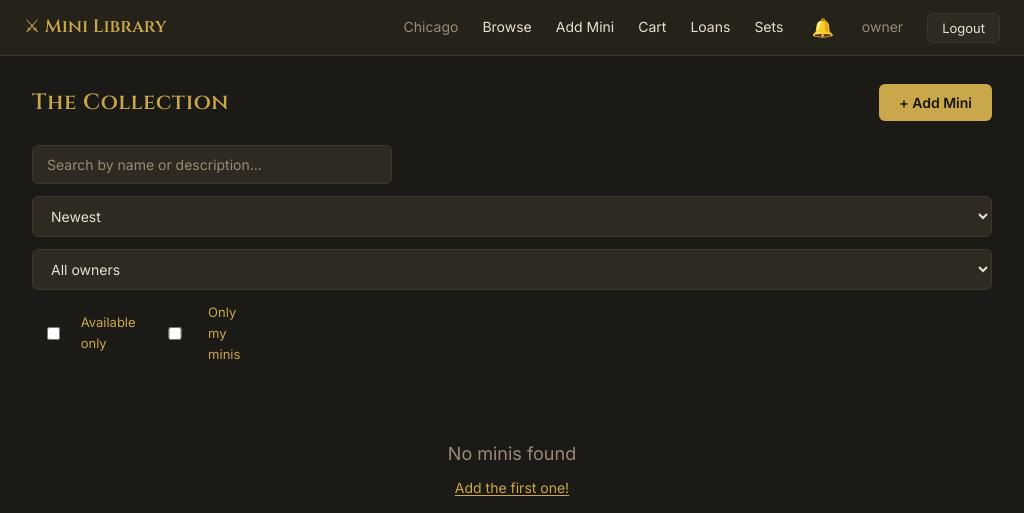
App nav — username link › links to the sets page from the nav
The width and height of the screenshot is (1024, 513).
Click the link "Sets" at point(769, 28), box [754, 16, 783, 39]
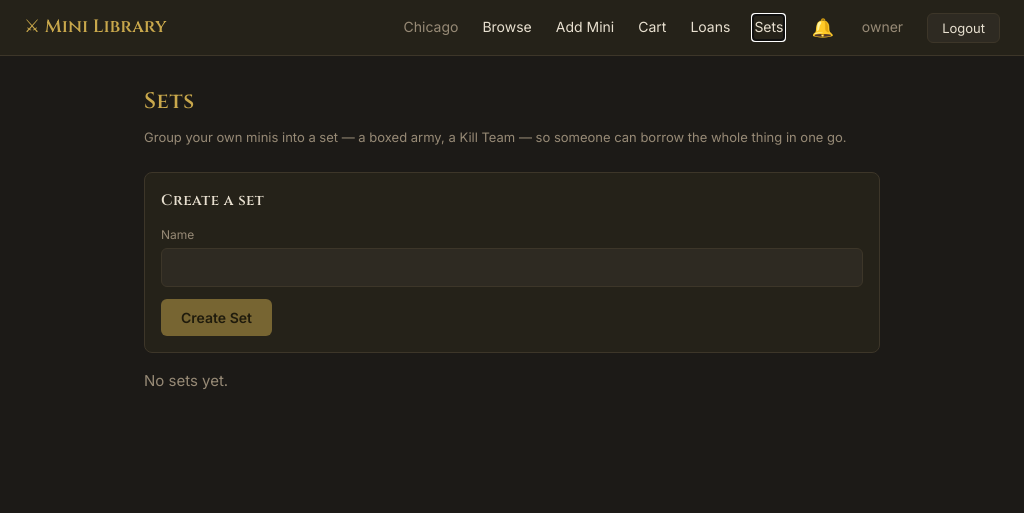
Now the heading "Sets" is shown, box [144, 87, 195, 116]
